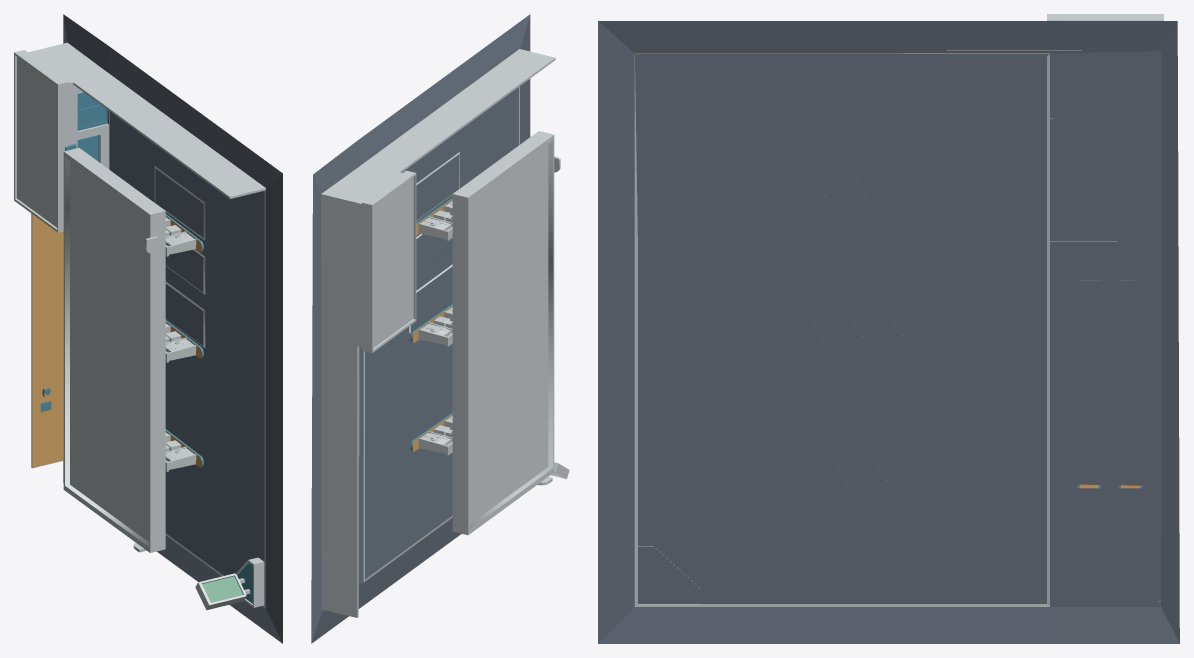
File: SUP_Posto_de_Gasolina.glb
The picture shows the model from 3 angles, left to right: view 1: azimuth 30°, elevation 25°; view 2: azimuth 150°, elevation 25°; view 3: azimuth 270°, elevation 25°; orthographic projection. The views are drawn at different scales.
Parts seen in each view (by area): view 1: SUP_Posto_de_Gasolina; view 2: SUP_Posto_de_Gasolina; view 3: SUP_Posto_de_Gasolina.
Part boxes in pixels (x1,y1,x2,y2): SUP_Posto_de_Gasolina: (14,14,282,643); SUP_Posto_de_Gasolina: (311,14,569,643); SUP_Posto_de_Gasolina: (598,14,1179,643).
Bounding box in the file's own units: 8.01 × 43.24 × 36.59.
